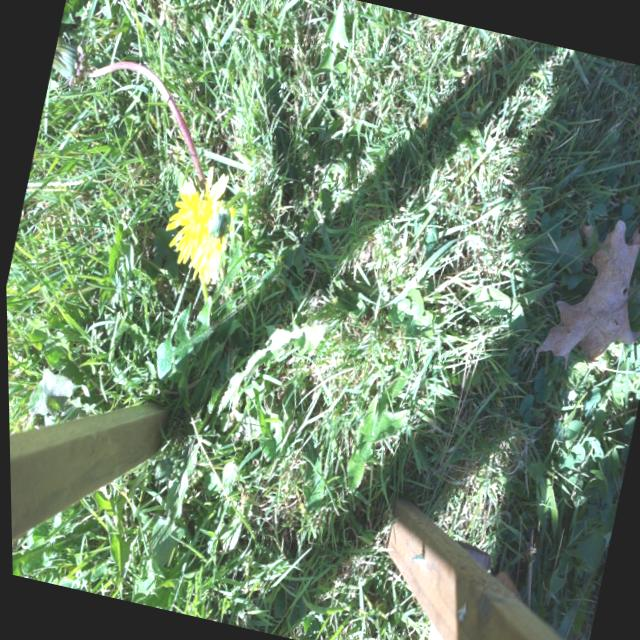base: (189, 284, 223, 330), (230, 226, 258, 260), (188, 166, 213, 200)
